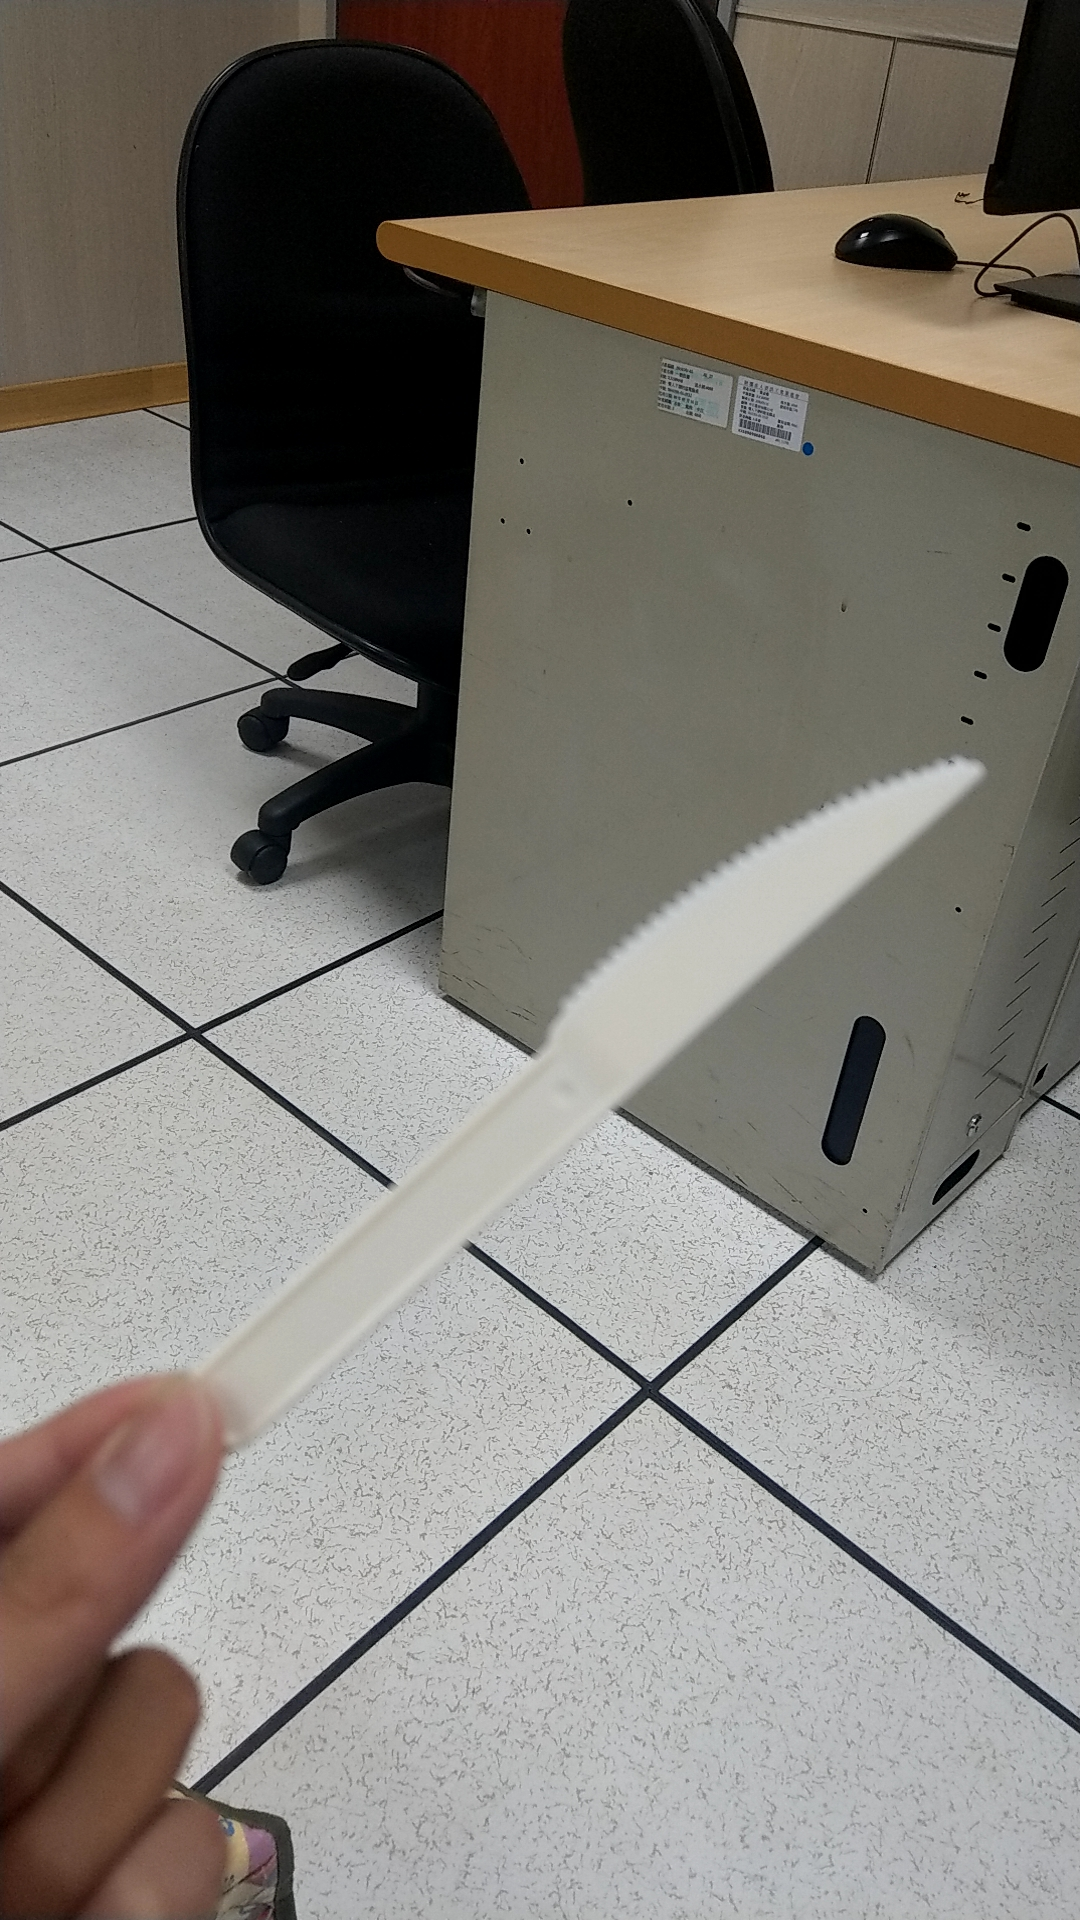knife: (215, 736, 997, 1436)
